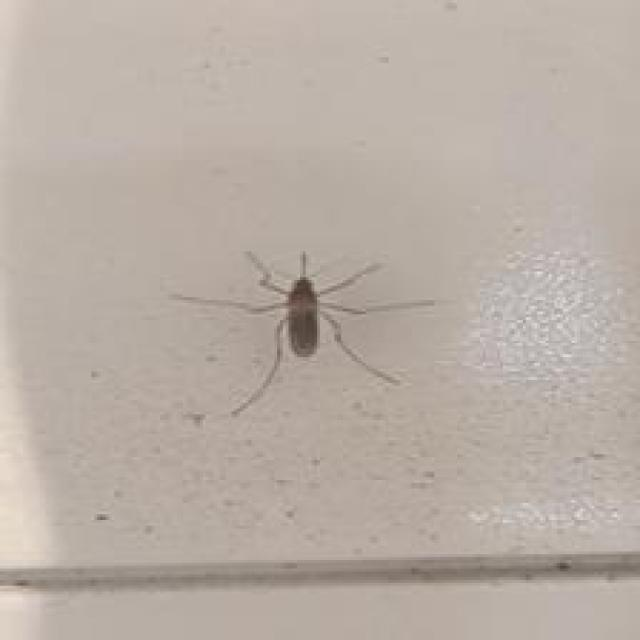Culex: (170, 247, 436, 424)
